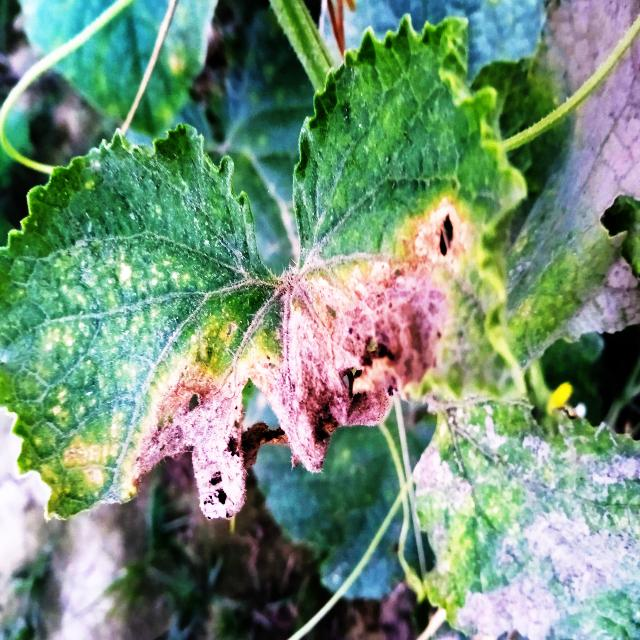Gummy-Stem-Blight: (123, 197, 468, 524)
